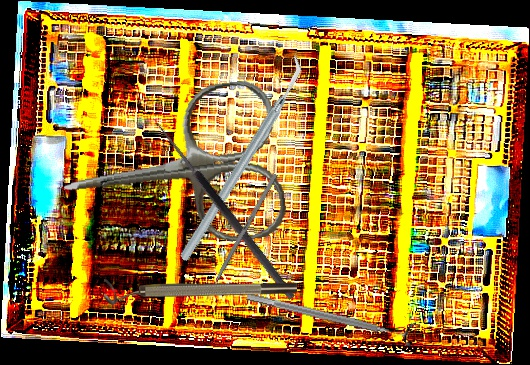Chopper: (122, 52, 360, 263)
Fixation Ring: (244, 283, 417, 348), (104, 279, 297, 305)
Hook Surgical: (143, 119, 297, 308)
Iris Scissors: (52, 77, 290, 264)
Pusher: (201, 173, 278, 306)
